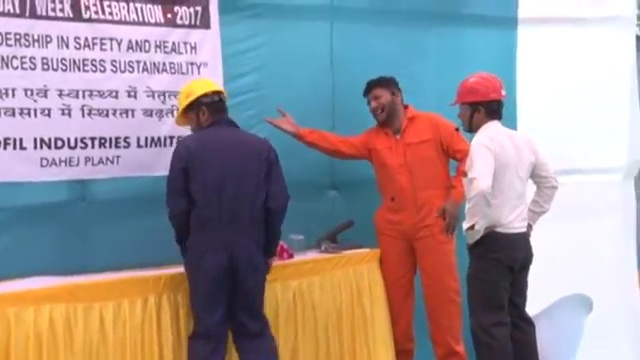helmet: (172, 76, 227, 127), (447, 70, 509, 108)
helmet_off: (361, 76, 414, 128)
helmet_on: (446, 71, 511, 135), (171, 76, 235, 135)
person: (269, 74, 471, 360), (169, 75, 287, 360), (447, 70, 560, 360)
